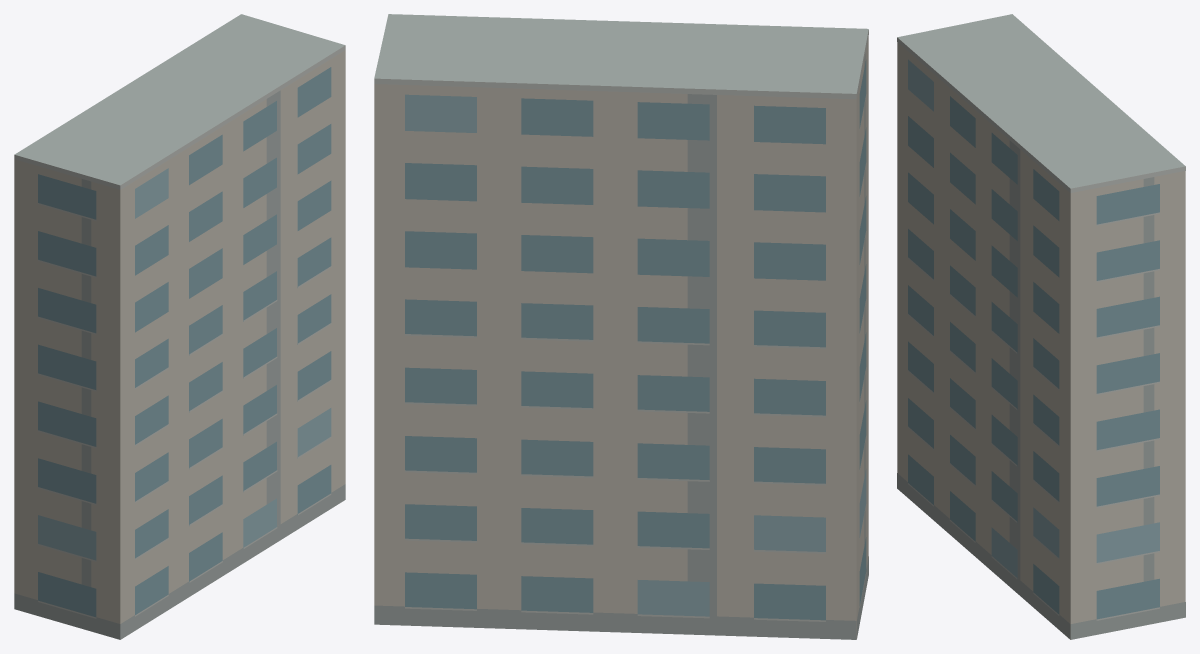
The model's file is survey-upis-32604529.glb.
3 views of the same model, side by side, from view 1: azimuth 30°, elevation 25°; view 2: azimuth 150°, elevation 25°; view 3: azimuth 270°, elevation 25° (orthographic). The views are drawn at different scales.
Visible parts, largest first — view 1: survey-upis-32604529.tmp; view 2: survey-upis-32604529.tmp; view 3: survey-upis-32604529.tmp.
Part boxes in pixels (left/top/right/bottom): survey-upis-32604529.tmp: left=14, top=14, right=345, bottom=639; survey-upis-32604529.tmp: left=374, top=14, right=868, bottom=639; survey-upis-32604529.tmp: left=897, top=14, right=1185, bottom=639.
Bounding box in the file's own units: 20.27 × 24.4 × 14.16.
